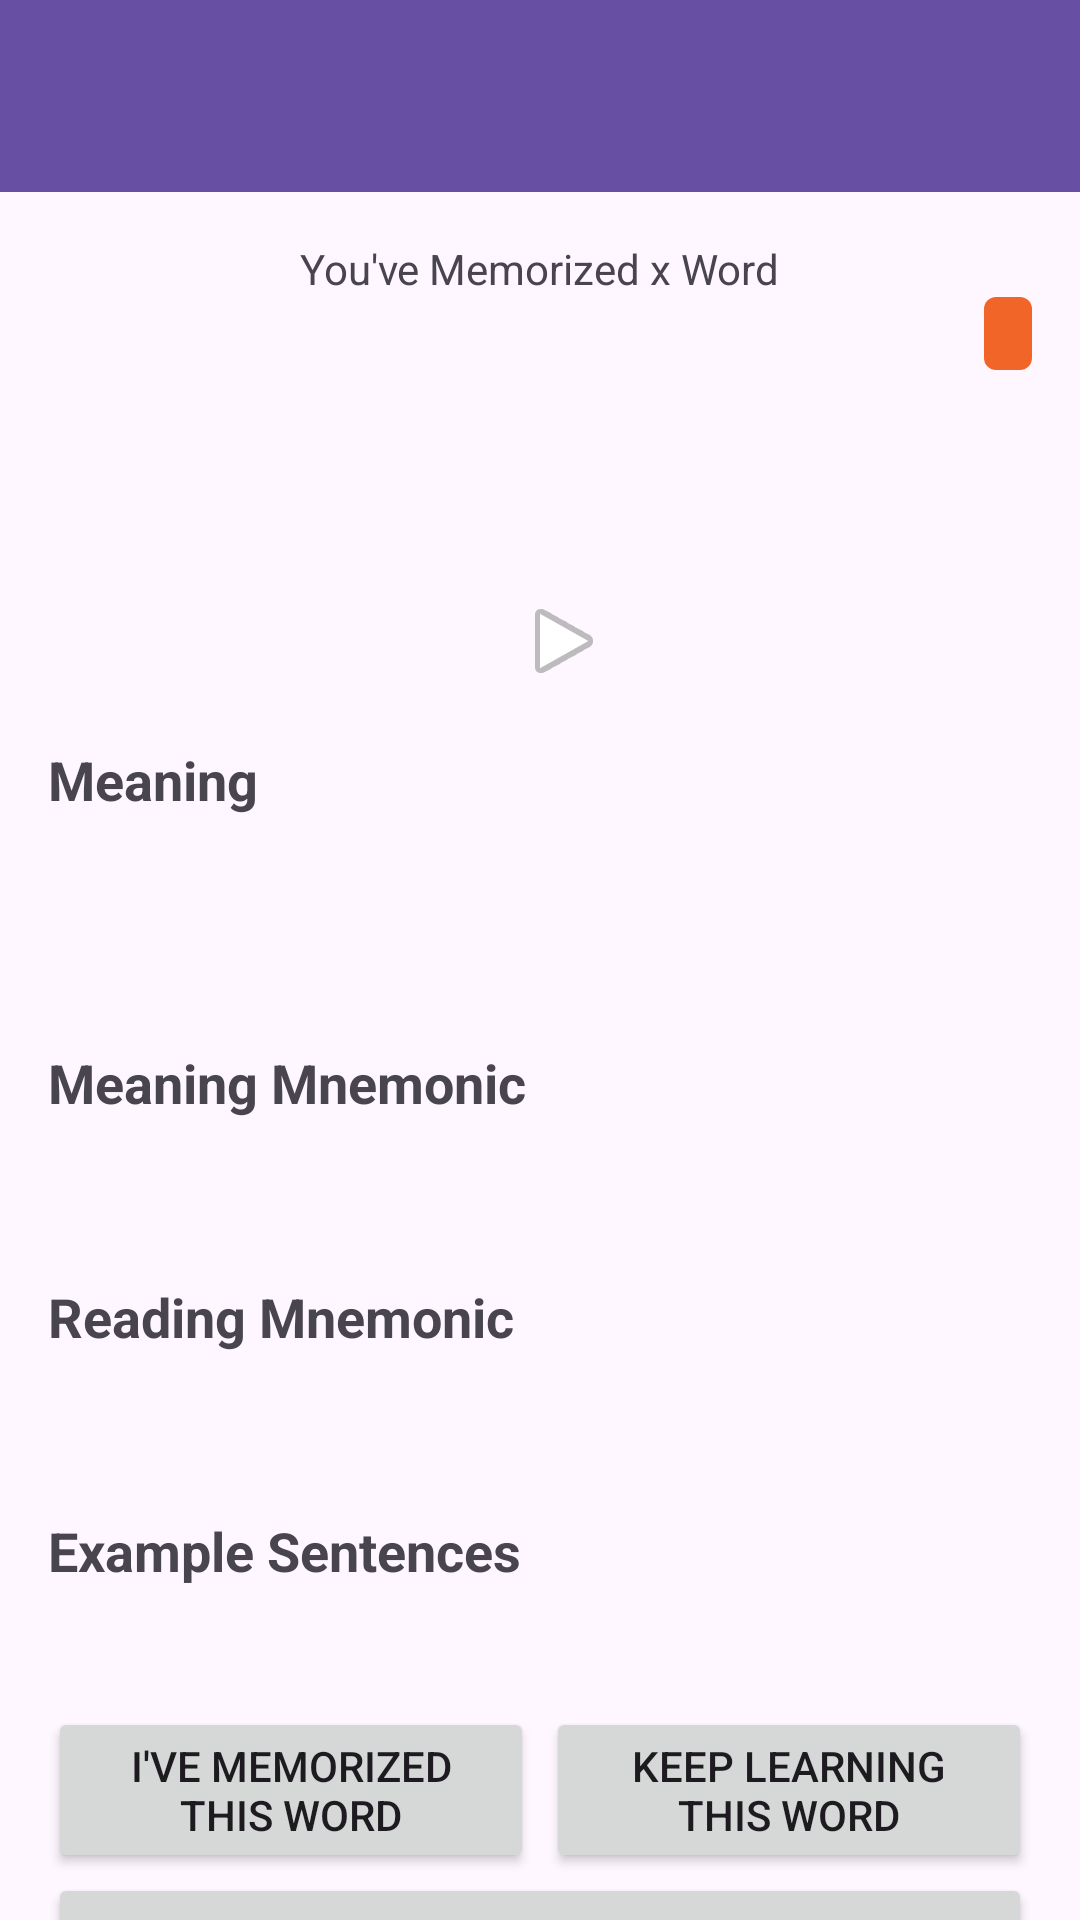

Where to tap for icons on this 1080 × 1920 app screen, as [x,y]:
Play pronunciation: [564,641]
